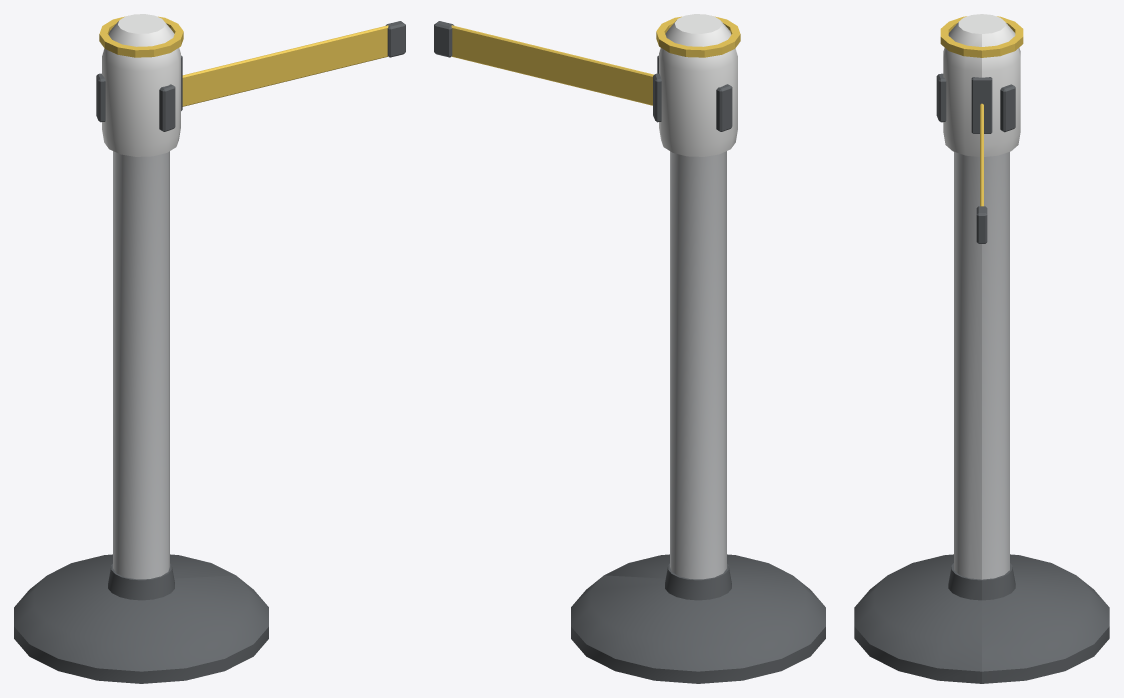
File: laundrette-and-cleaning-caution-barrier-post-75cbf09d.glb
The picture shows the model from 3 angles, left to right: view 1: azimuth 30°, elevation 25°; view 2: azimuth 150°, elevation 25°; view 3: azimuth 270°, elevation 25°; orthographic projection.
Parts seen in each view (by area): view 1: caution-barrier-post; view 2: caution-barrier-post; view 3: caution-barrier-post.
Boxes of the visible parts, x1,y1,x2,y2 form: caution-barrier-post: [14, 14, 405, 683]; caution-barrier-post: [434, 14, 825, 683]; caution-barrier-post: [854, 14, 1109, 683].
Bounding box in the file's own units: 0.635 × 0.98 × 0.3742.
